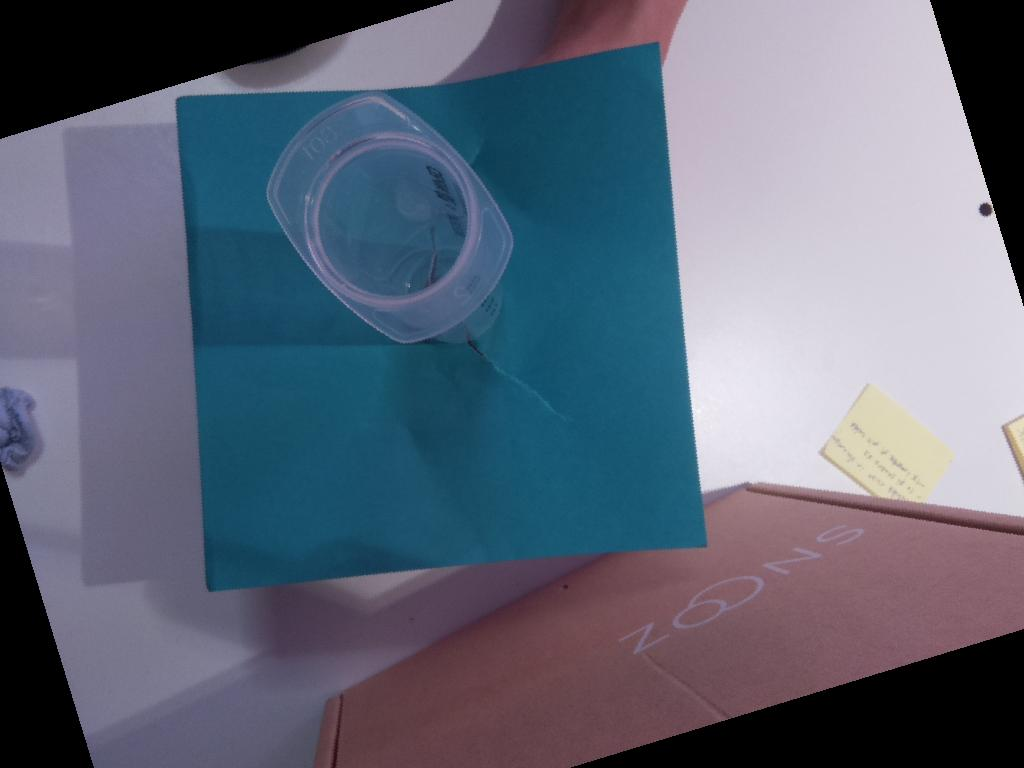clean: (265, 89, 520, 347)
